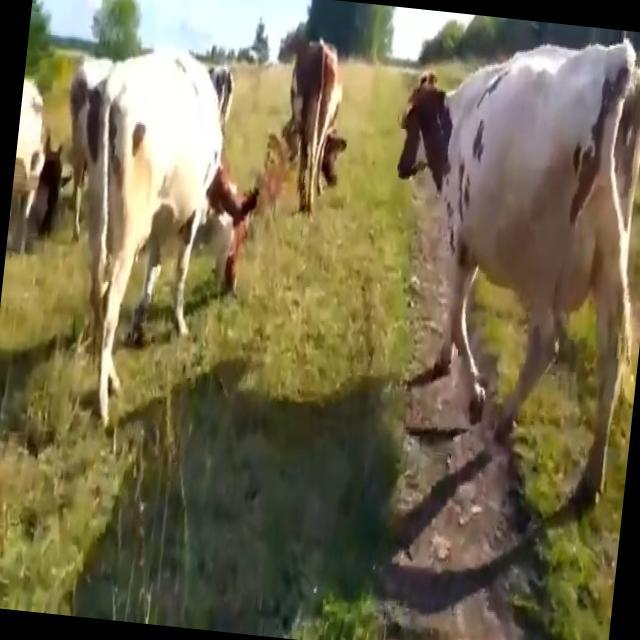COW: (398, 41, 640, 503), (72, 51, 258, 424), (285, 41, 342, 213)
